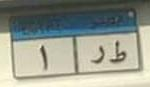1: (37, 43, 50, 71)
Taa: (107, 38, 127, 66)
raa: (89, 43, 105, 67)
